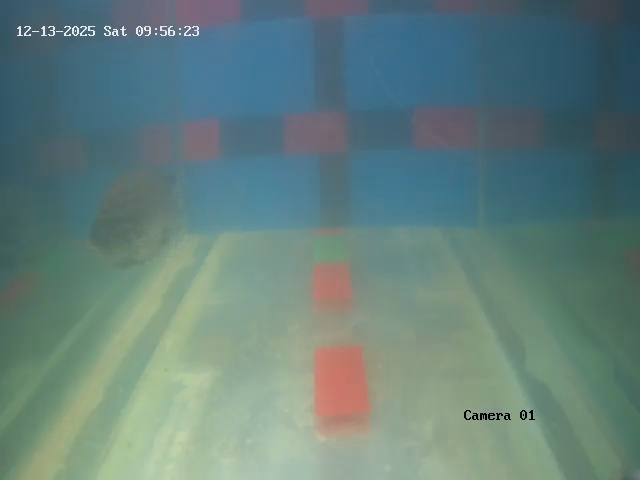fish: (92, 163, 195, 273)
